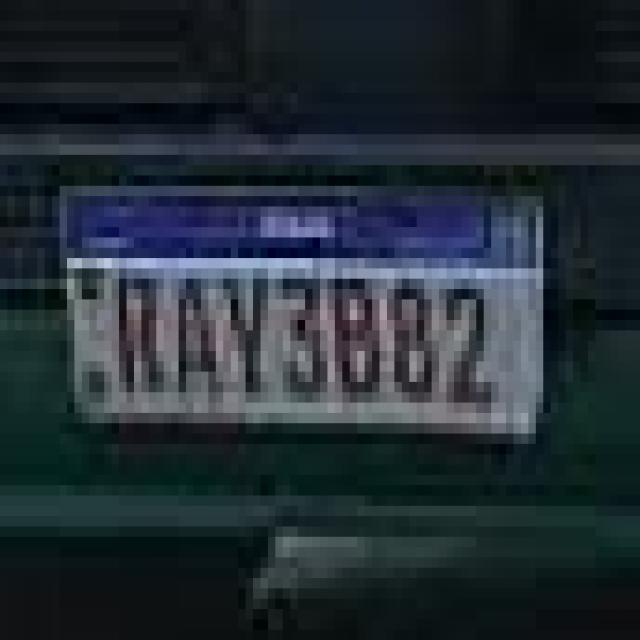3: (276, 269, 323, 406)
8: (388, 273, 437, 404)
A: (171, 267, 222, 401)
B: (330, 268, 385, 405)
R: (113, 266, 168, 396)
Y: (223, 268, 274, 401)
